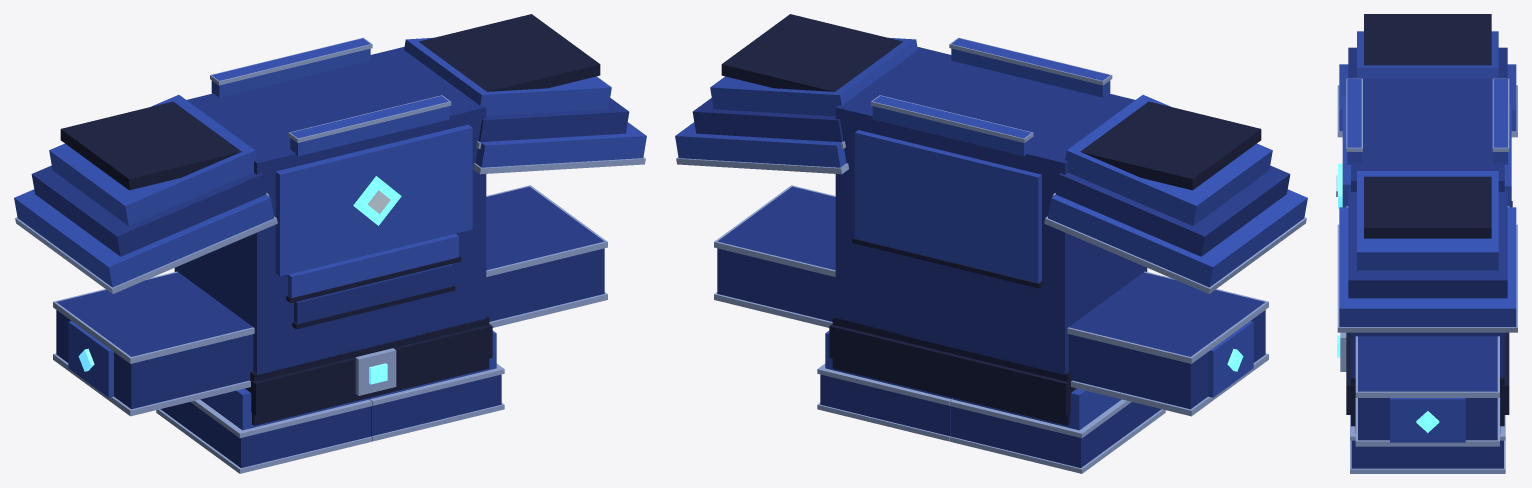
3 views of the same model, side by side, from view 1: azimuth 30°, elevation 25°; view 2: azimuth 150°, elevation 25°; view 3: azimuth 270°, elevation 25° (orthographic). The views are drawn at different scales.
Visible parts, largest first — view 1: rift-plate; view 2: rift-plate; view 3: rift-plate.
Boxes of the visible parts, <box> form: rift-plate: <box>14,14,646,473</box>; rift-plate: <box>675,14,1307,473</box>; rift-plate: <box>1336,14,1517,473</box>.
Bounding box in the file's own units: 1.29 × 0.7402 × 0.4061.
